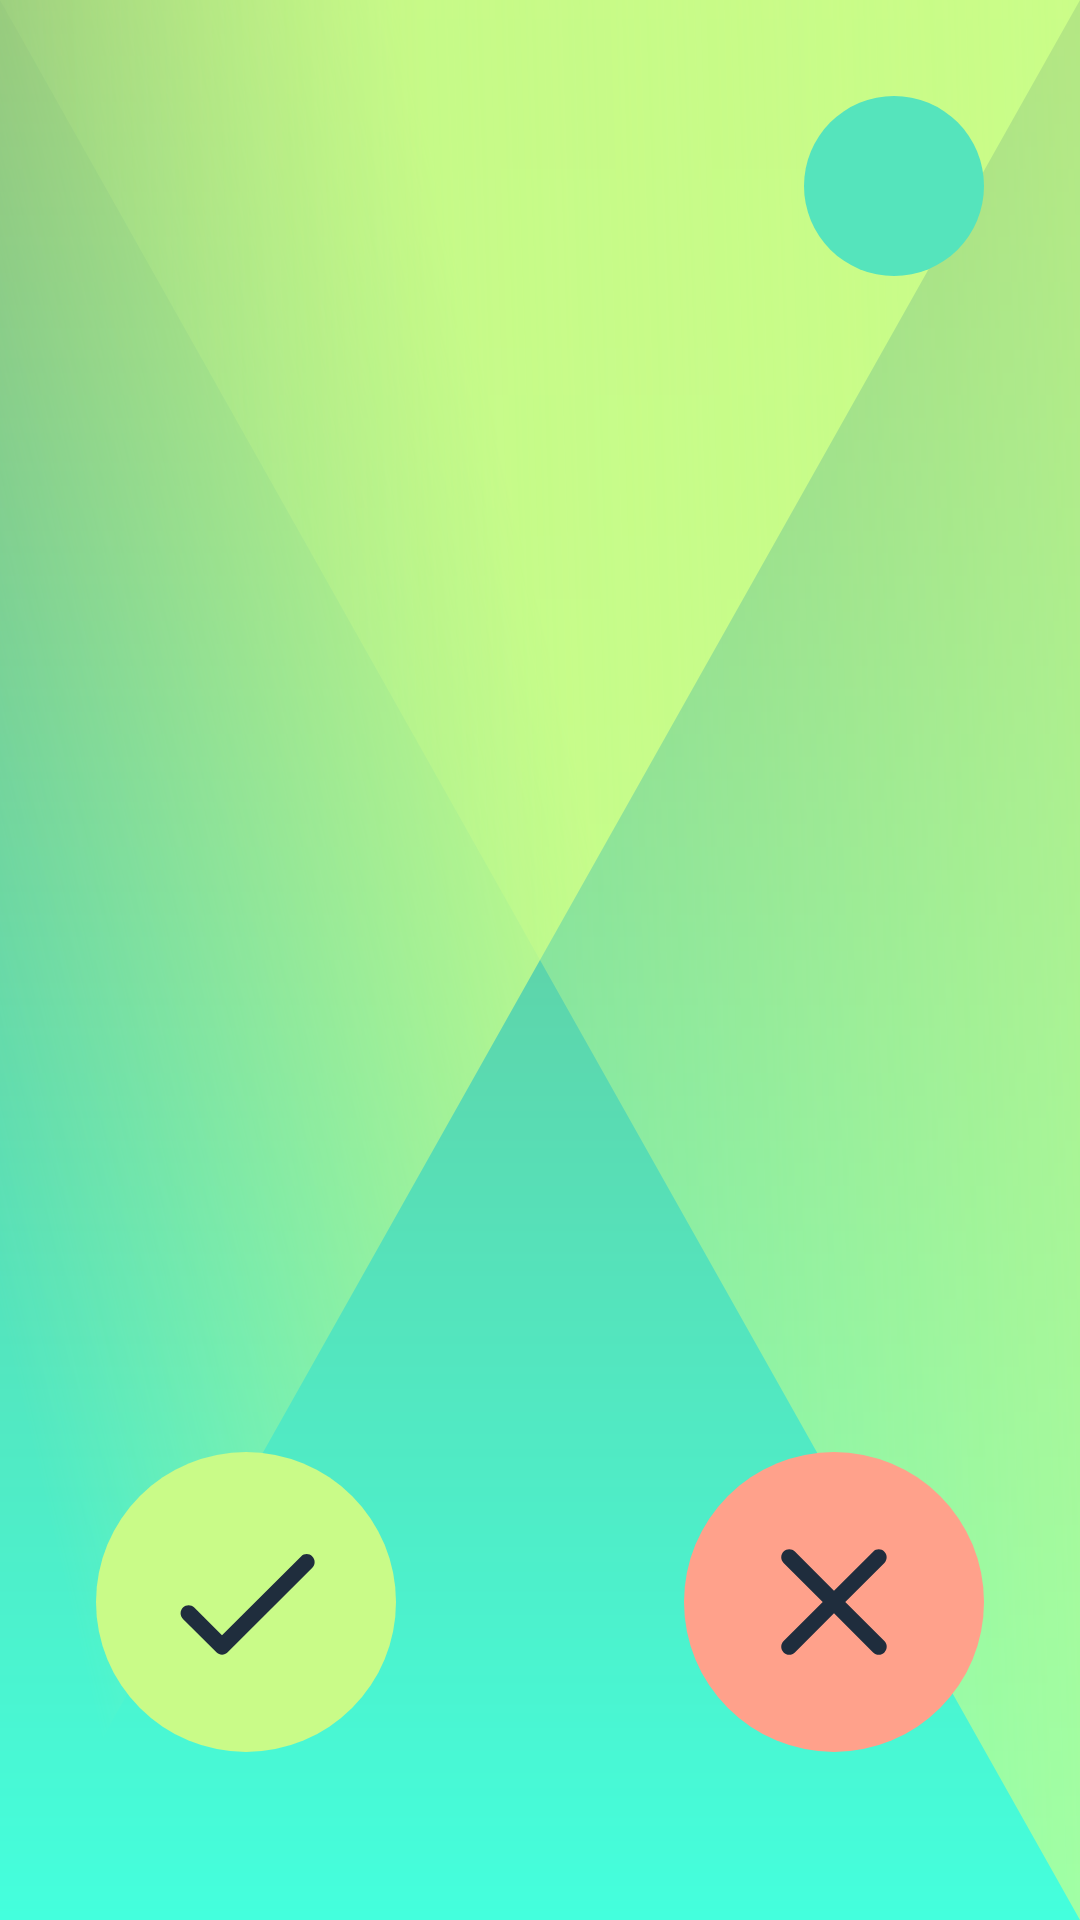

Where icons sit on this 1080×1920 app screen, as (x1, y1, x2, y2):
agree: (96, 1452, 396, 1752)
disagree: (684, 1452, 984, 1752)
